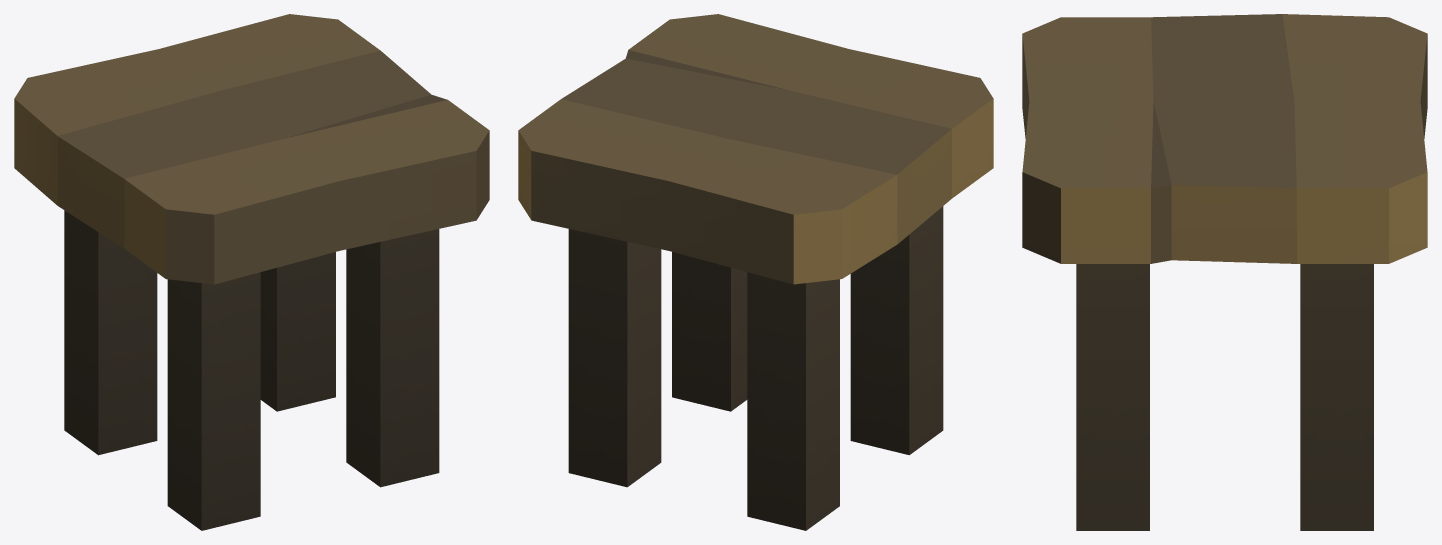
File: table_small.fbx
3 renders of one model, left to right at view 1: azimuth 30°, elevation 25°; view 2: azimuth 150°, elevation 25°; view 3: azimuth 270°, elevation 25°, orthographic. The views are drawn at different scales.
Parts seen in each view (by area): view 1: table_small; view 2: table_small; view 3: table_small.
Part boxes in pixels (x1,y1,x2,y2): table_small: (14,14,489,530); table_small: (518,14,993,530); table_small: (1022,14,1427,530).
Size of the model in its own units: 63.4 by 61.95 by 62.23.
